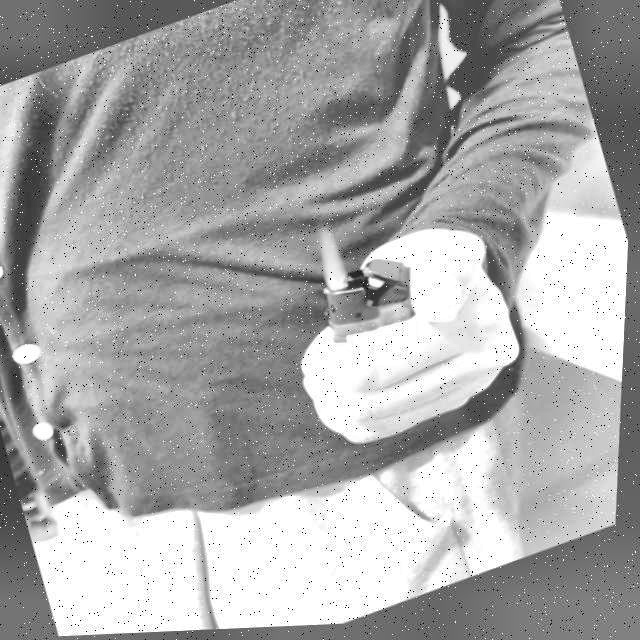Fire: (311, 223, 356, 295)
